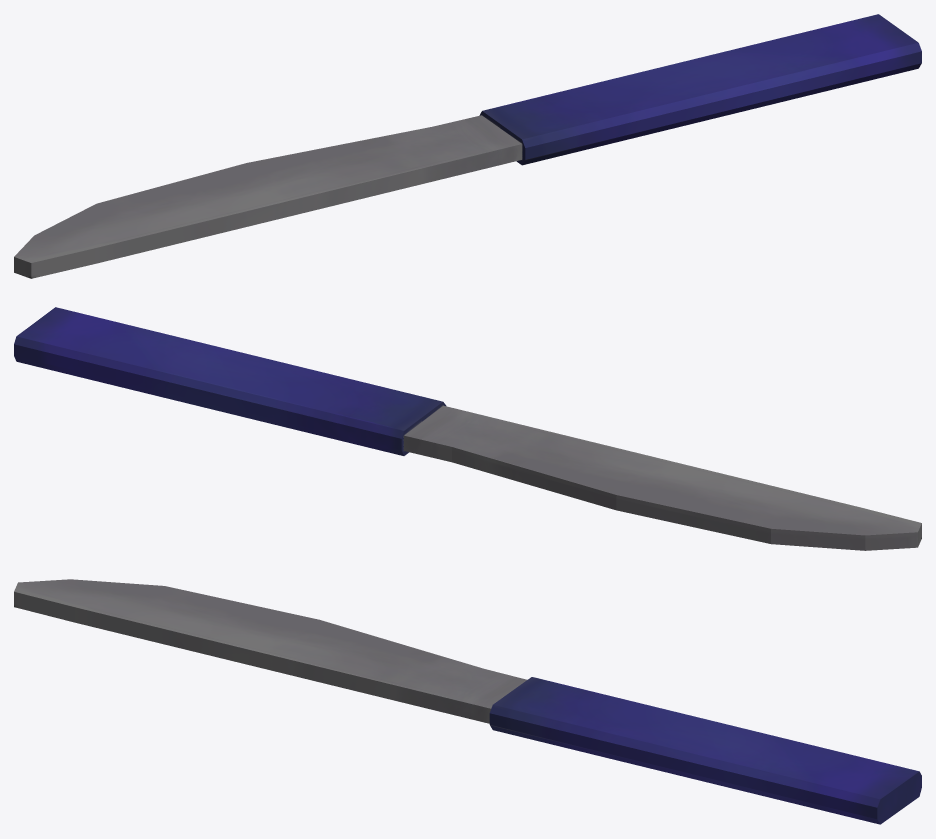
The model's file is KnifeButter.fbx.
3 renders of one model, top to bottom at view 1: azimuth 30°, elevation 25°; view 2: azimuth 150°, elevation 25°; view 3: azimuth 330°, elevation 25°, orthographic. The views are drawn at different scales.
Visible parts, largest first — view 1: KnifeButter; view 2: KnifeButter; view 3: KnifeButter.
Part boxes in pixels (box(x1,y1,x2,y2)): KnifeButter: box(14, 14, 921, 278); KnifeButter: box(14, 307, 921, 550); KnifeButter: box(14, 579, 921, 824).
Size of the model in its own units: 240 by 6.81 by 24.32.
